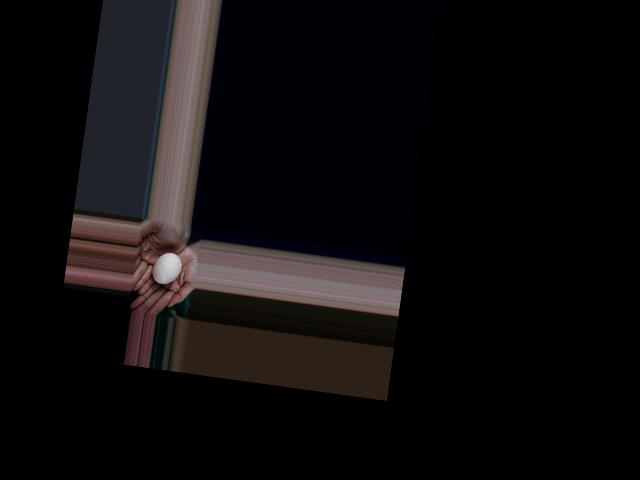egg: (151, 251, 182, 286)
